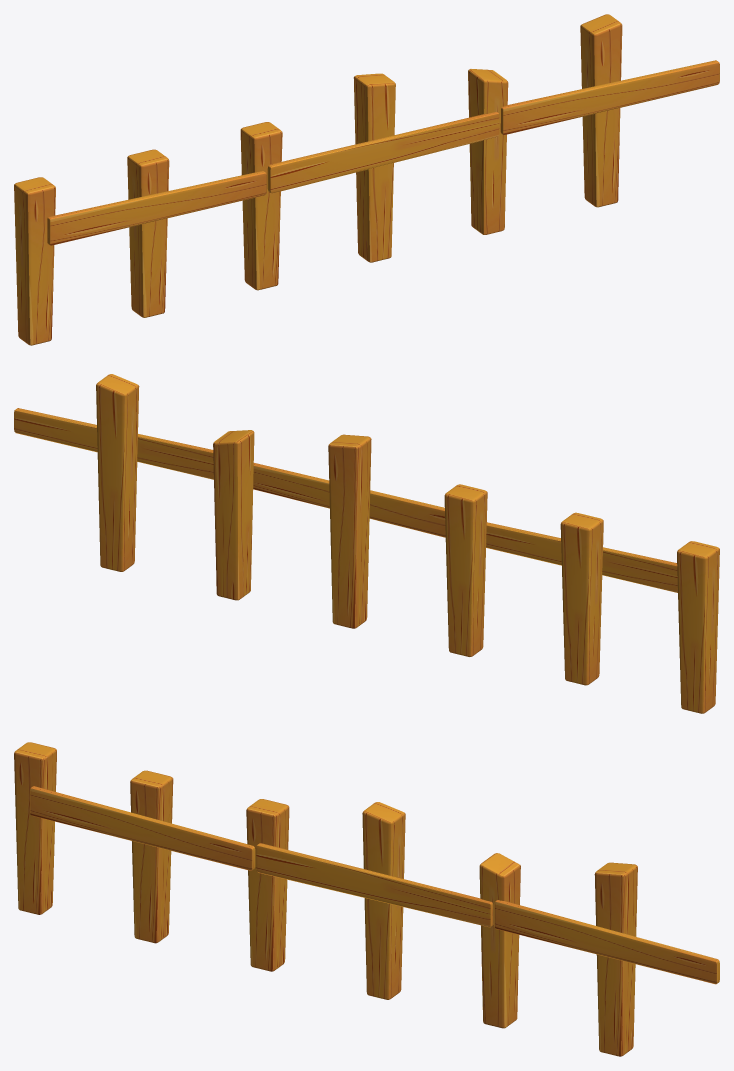
Rendered from Coincraft_Fence.fbx.
3 renders of one model, top to bottom at view 1: azimuth 30°, elevation 25°; view 2: azimuth 150°, elevation 25°; view 3: azimuth 330°, elevation 25°, orthographic. The views are drawn at different scales.
Parts seen in each view (by area): view 1: Fence; view 2: Fence; view 3: Fence.
Part boxes in pixels (x1,y1,x2,y2): Fence: (14,14,719,345); Fence: (14,374,719,713); Fence: (14,742,719,1056).
Bounding box in the file's own units: 609 × 152 × 29.2.
